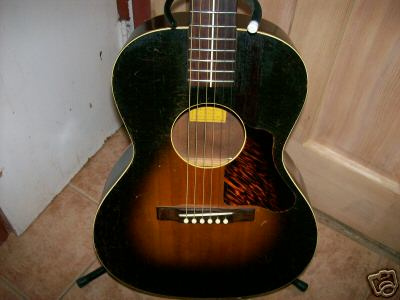guitar: (92, 1, 318, 297)
